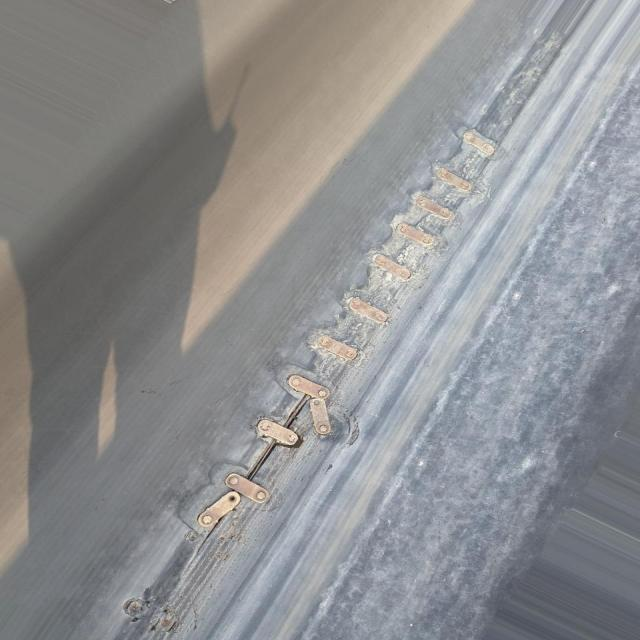patch work: (77, 99, 566, 638)
